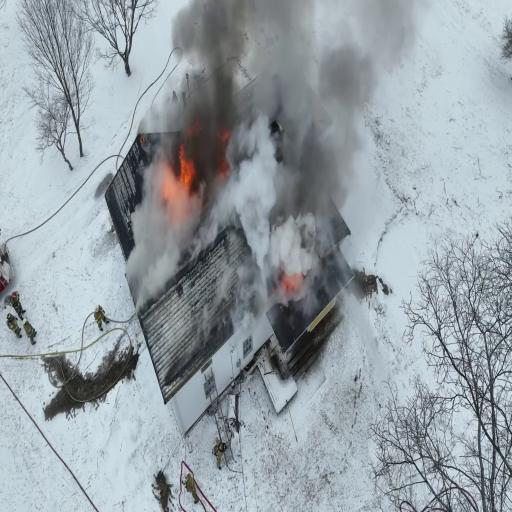fire: (163, 138, 203, 220)
smoke: (252, 128, 325, 229)
